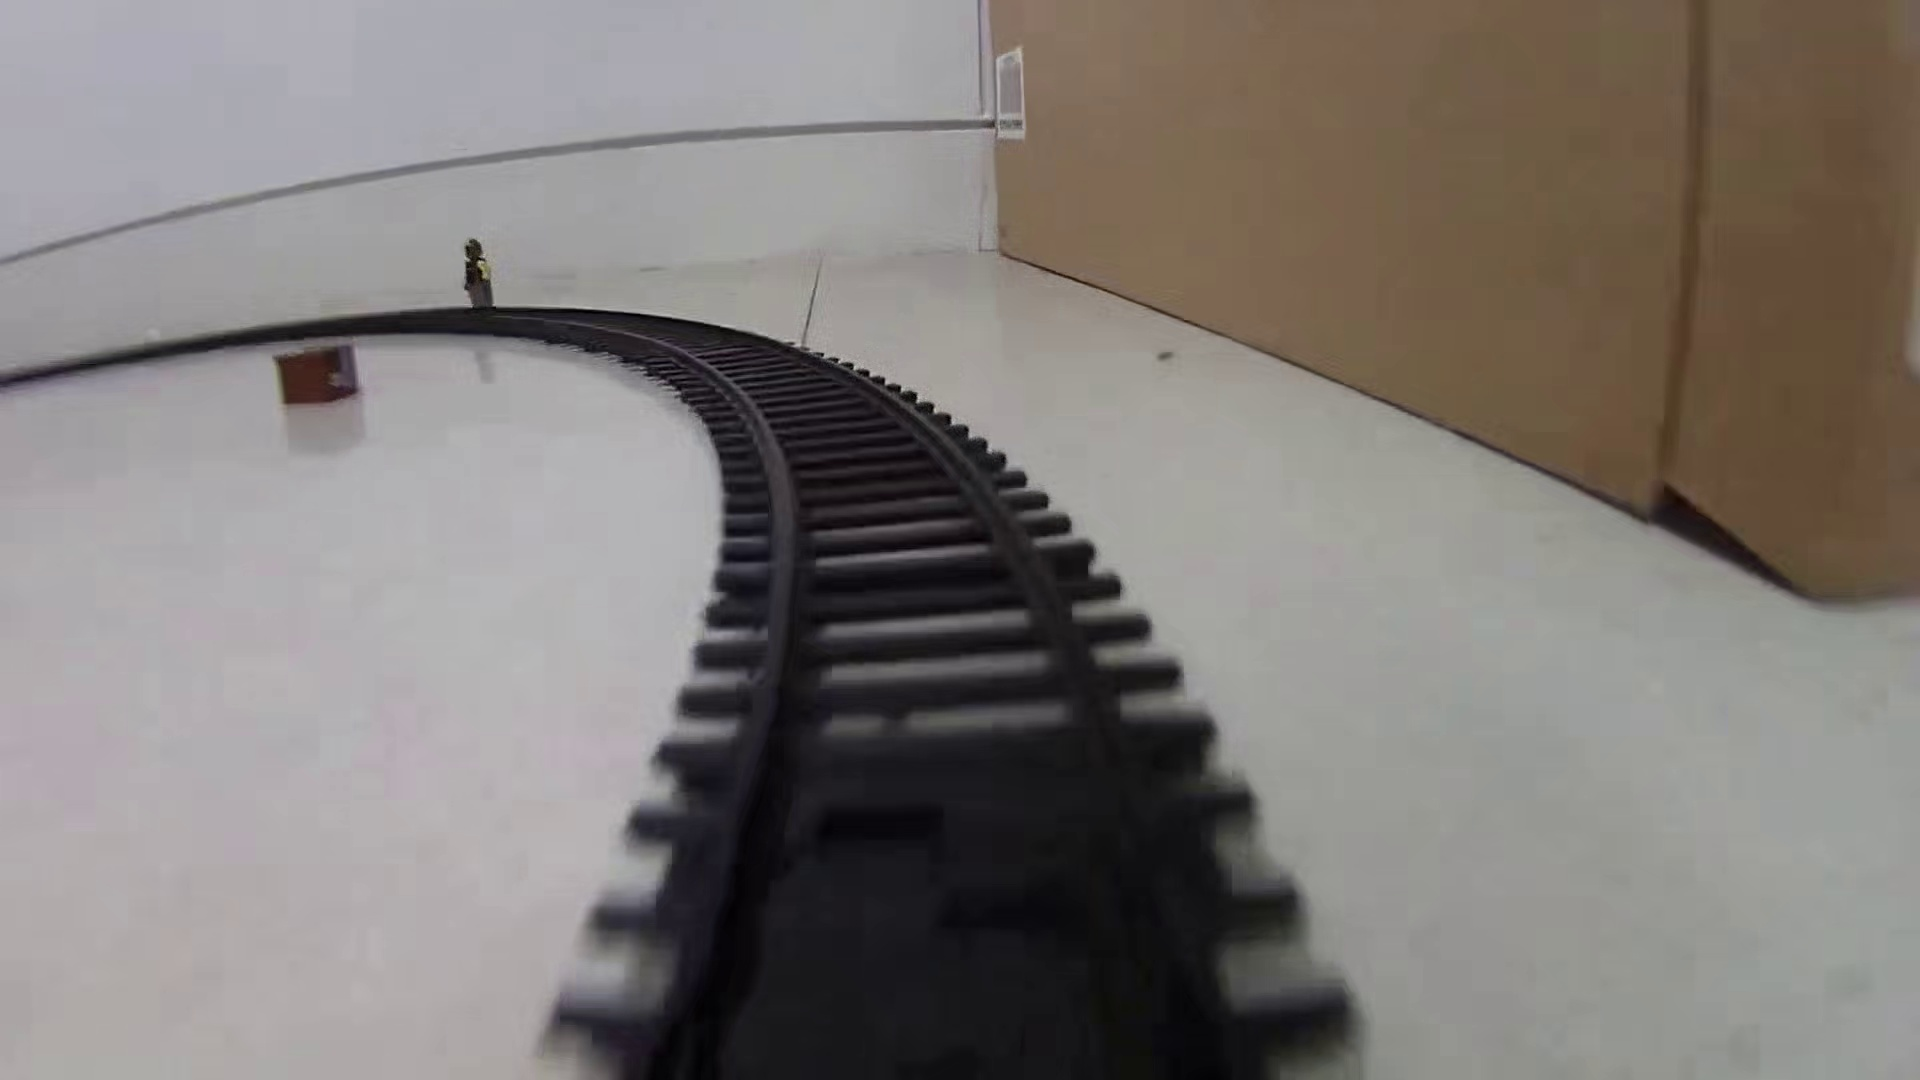box: (274, 341, 366, 406)
people: (461, 235, 497, 312)
